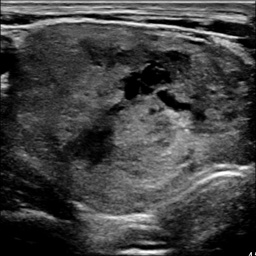mass: (20, 24, 251, 205)
